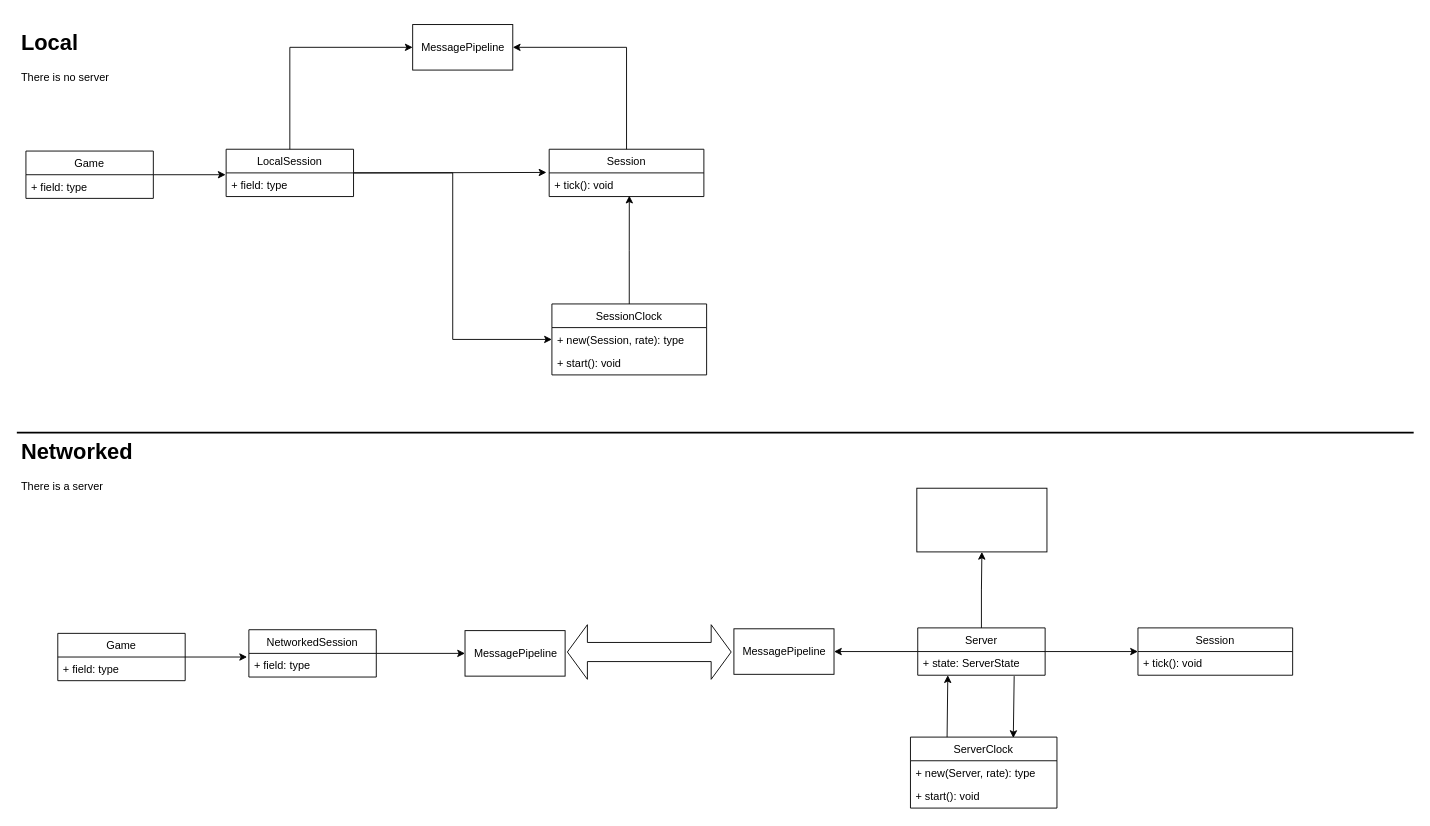
This 1430x826 diagram has some shape labels left out. The shapes that lost their labels are listed below. From the top down, each one's centre as x and y in pixels, then its label:
At (981,519): "<<Enum>> ServerState + IN_LOBBY + IN_SESSION".
At (648,651): "Network".
